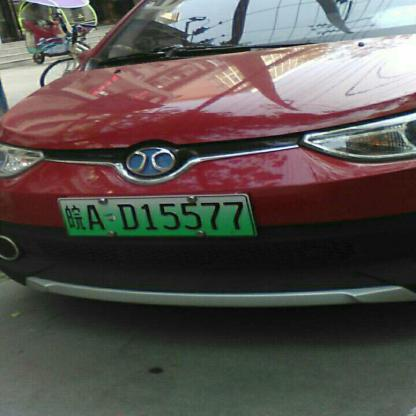lp: (59, 194, 254, 235)
